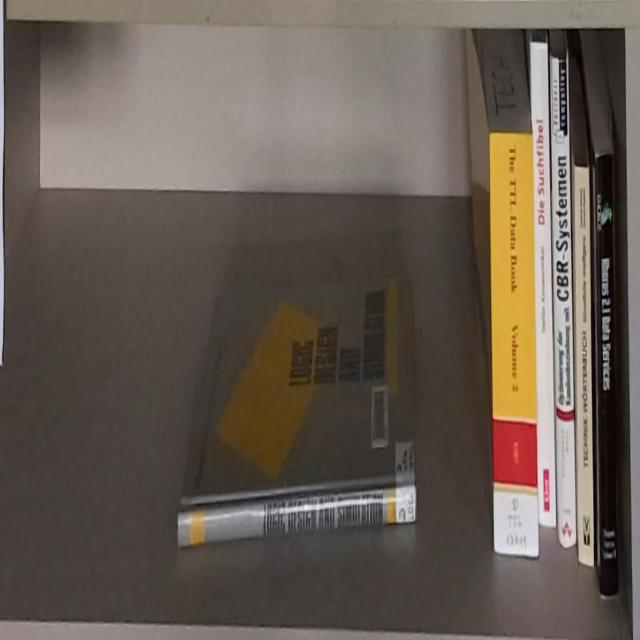Book Spine: (489, 133, 539, 556), (177, 482, 417, 545), (549, 50, 578, 544), (530, 39, 557, 527), (593, 149, 622, 599), (572, 162, 595, 568)
